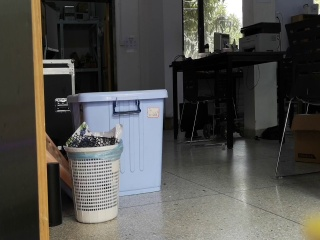room: (2, 4, 320, 239)
